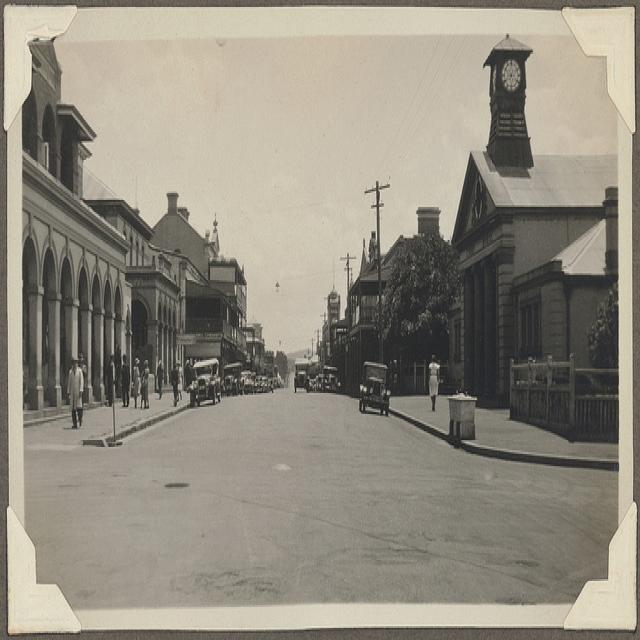Vehicle: (357, 362, 390, 414), (188, 358, 221, 405), (224, 364, 244, 397), (293, 358, 309, 394), (322, 365, 341, 393), (255, 376, 266, 392)
